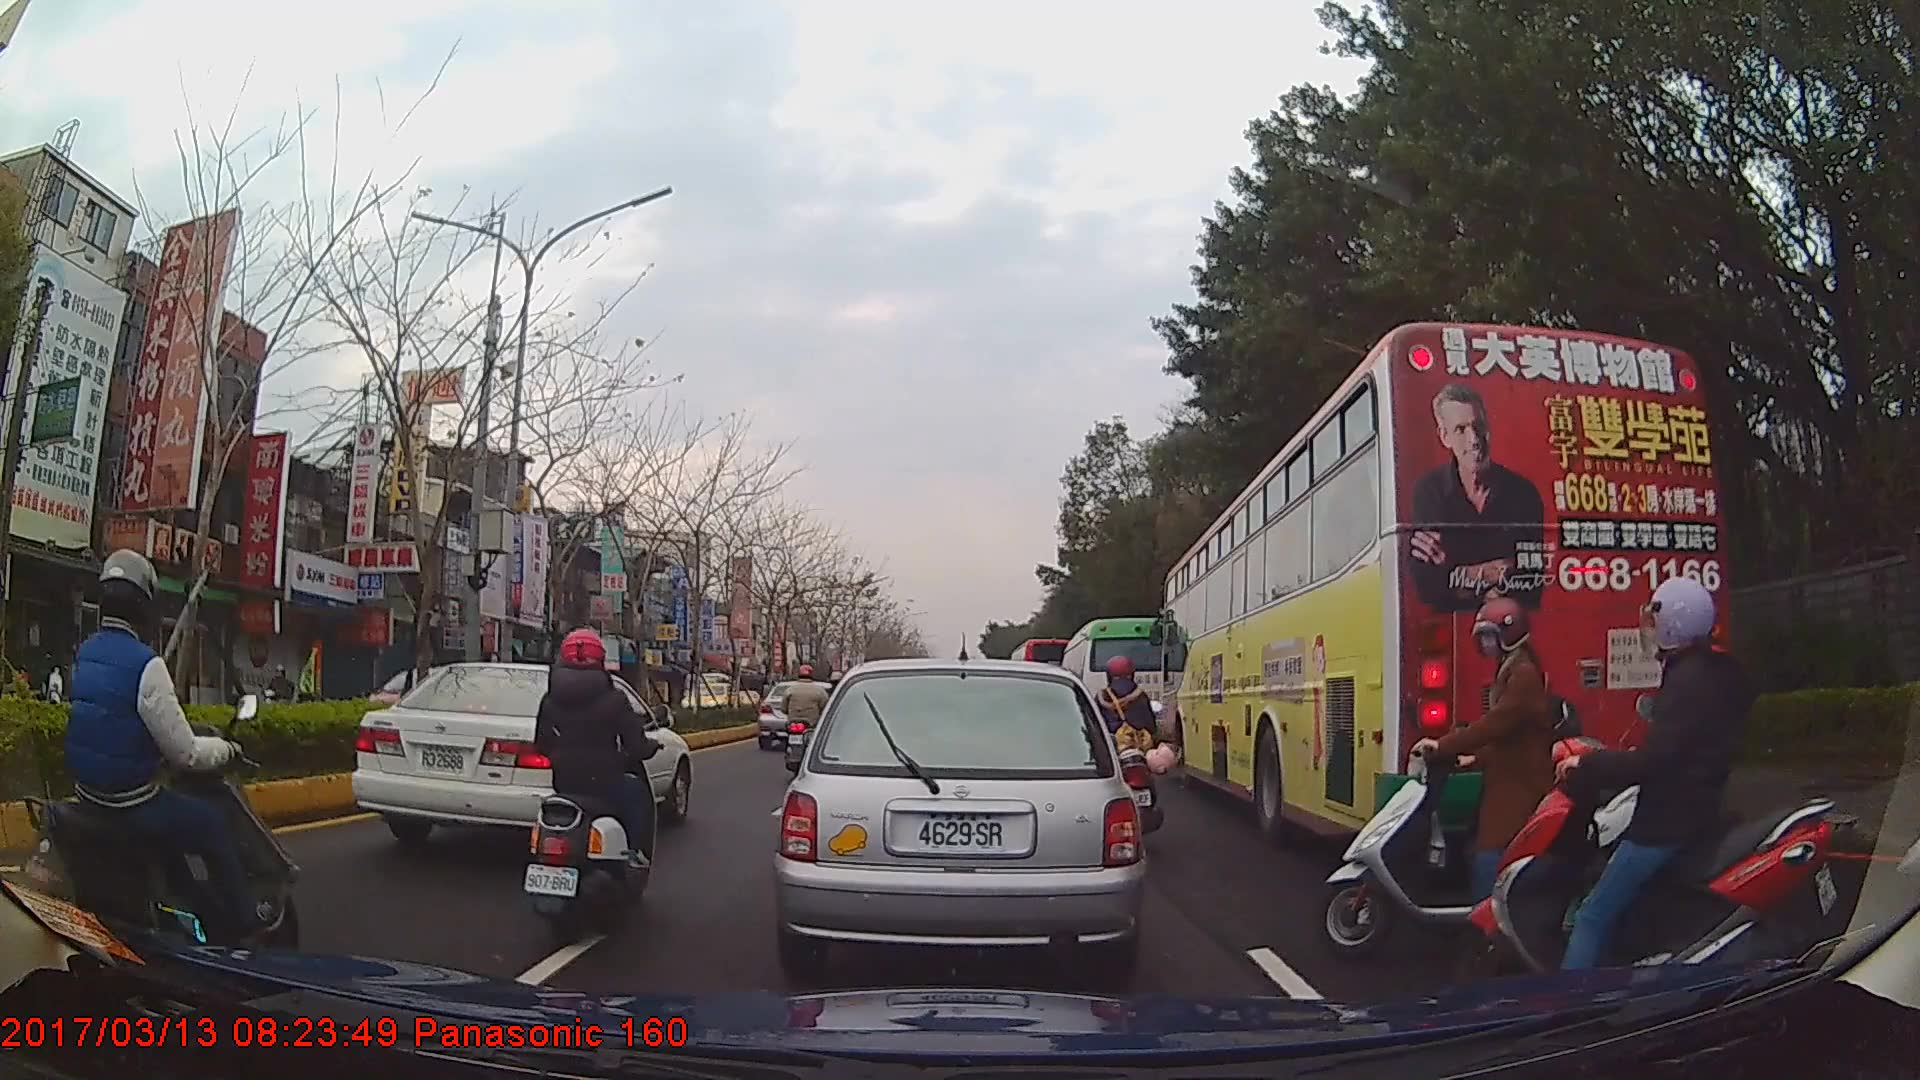rider: (1461, 574, 1826, 1038), (1316, 595, 1670, 968), (522, 627, 664, 951), (1085, 656, 1174, 831), (785, 663, 833, 777), (265, 663, 294, 705)
vehicle: (1160, 319, 1730, 847), (771, 655, 1146, 975), (346, 659, 692, 851), (1057, 617, 1187, 762), (682, 680, 740, 717)
